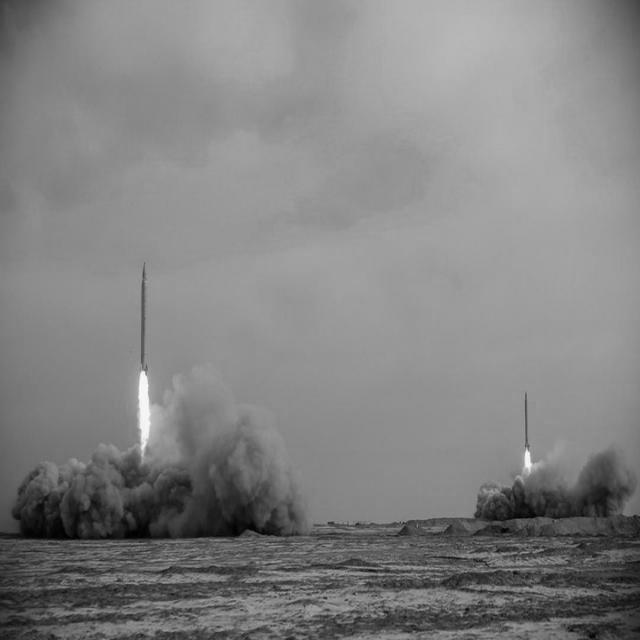Missile: (135, 261, 149, 379), (523, 388, 530, 448)
